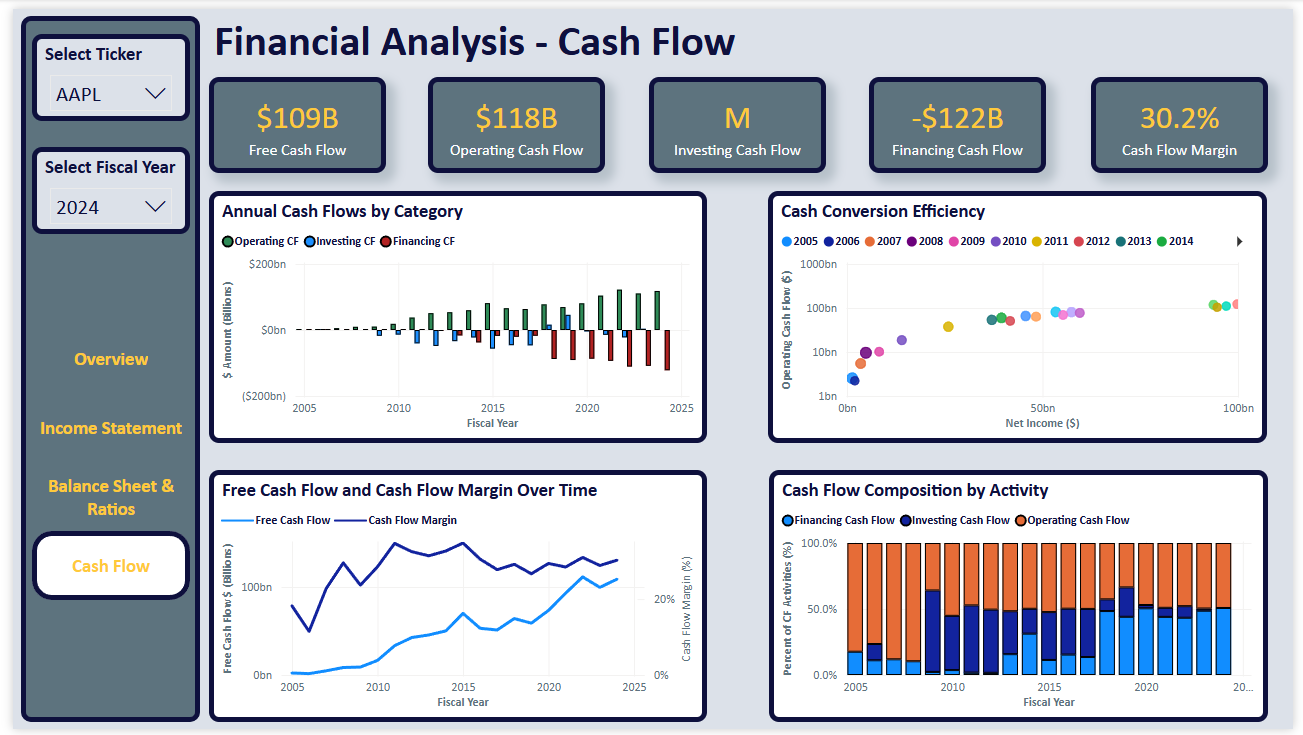

What the dashboard file says about the page in this screenshot:
{"tool":"powerbi","page":{"name":"Cash Flow","canvas":[1280,720],"ordinal":3},"visuals":[{"type":"textbox","title":"Title","box":[196,0,882.3,68.3],"z":0},{"type":"card","fields":{"Values":["Cash Flow.Formatted Free Cash Flow"]},"box":[196,68.3,176.7,95.6],"z":0,"group":"g1"},{"type":"actionButton","box":[18.6,314.8,158,69],"z":0,"group":"g2"},{"type":"shape","box":[8,7,179,706],"z":1000},{"type":"card","fields":{"Values":["Cash Flow.Formatted Operating Cash Flow"]},"box":[414.9,68.3,176.7,95.6],"z":1000,"group":"g1"},{"type":"actionButton","box":[18.6,383.8,158,69],"z":1000,"group":"g2"},{"type":"slicer","title":"Select Ticker","fields":{"Values":["Income Statement.Ticker"]},"box":[19,25,158,87],"z":2000},{"type":"card","fields":{"Values":["Cash Flow.Formatted Investing Cash Flow"]},"box":[636,68.3,176.7,95.6],"z":2000,"group":"g1"},{"type":"actionButton","box":[18.6,452.8,158,69],"z":2000,"group":"g2"},{"type":"card","fields":{"Values":["Cash Flow.Formatted Financing Cash Flow"]},"box":[856,68.3,176.7,95.6],"z":3000,"group":"g1"},{"type":"slicer","title":"Select Fiscal Year","fields":{"Values":["Income Statement.FiscalYear"]},"box":[19,138,158,87],"z":3000},{"type":"actionButton","box":[18.6,521.8,158,69],"z":3000,"group":"g2"},{"type":"group","id":"g1","title":"Group 1","box":[196,68.3,1057.8,95.8],"z":4000},{"type":"card","fields":{"Values":["Cash Flow.Formatted Cash Flow Margin"]},"box":[1078.2,68.3,176.7,95.6],"z":4000,"group":"g1"},{"type":"hundredPercentStackedColumnChart","title":"Cash Flow Composition by Activity","fields":{"Category":["Income Statement.FiscalYear"],"Series":["CashFlowCategories.Category"],"Y":["CashFlowCategories.SelectedCashFlowPercent"]},"box":[756.4,461.1,498.3,251.8],"z":5000},{"type":"scatterChart","title":"Cash Conversion Efficiency","fields":{"X":["Sum(Income Statement.net_income)"],"Y":["Sum(Cash Flow.operating_cf)"],"Size":["Cash Flow.Cash Conversion Efficiency"],"Series":["Income Statement.FiscalYear"]},"box":[755.5,181.8,498.3,251.8],"z":6000},{"type":"lineChart","title":"Free Cash Flow and Cash Flow Margin Over Time","fields":{"Category":["Income Statement.FiscalYear"],"Y":["Cash Flow.Free Cash Flow"],"Y2":["Cash Flow.Cash Flow Margin"]},"box":[196,461.1,498.3,251.8],"z":7000},{"type":"clusteredColumnChart","title":"Annual Cash Flows by Category","fields":{"Category":["Income Statement.FiscalYear"],"Y":["Sum(Cash Flow.operating_cf)","Sum(Cash Flow.cf_investing)","Sum(Cash Flow.cf_financing)"]},"box":[196,181.8,498.3,251.8],"z":8000},{"type":"group","id":"g2","title":"Group 2","box":[18.6,314.8,158.7,275.8],"z":9000}]}

Visuals, with their boxes in screenshot pixels (x1, y1, x2, y2), scaled from the page's 1280x720 canvas onto the 1303x735 screenshot:
"Title" textbox: 200/0/1098/70
card - Cash Flow.Formatted Free Cash Flow: 200/70/379/167
actionButton: 19/321/180/392
shape: 8/7/190/728
card - Cash Flow.Formatted Operating Cash Flow: 422/70/602/167
actionButton: 19/392/180/462
"Select Ticker" slicer: 19/26/180/114
card - Cash Flow.Formatted Investing Cash Flow: 647/70/827/167
actionButton: 19/462/180/533
card - Cash Flow.Formatted Financing Cash Flow: 871/70/1051/167
"Select Fiscal Year" slicer: 19/141/180/230
actionButton: 19/533/180/603
"Group 1" group: 200/70/1276/168
card - Cash Flow.Formatted Cash Flow Margin: 1098/70/1277/167
"Cash Flow Composition by Activity" hundredPercentStackedColumnChart: 770/471/1277/728
"Cash Conversion Efficiency" scatterChart: 769/186/1276/443
"Free Cash Flow and Cash Flow Margin Over Time" lineChart: 200/471/707/728
"Annual Cash Flows by Category" clusteredColumnChart: 200/186/707/443
"Group 2" group: 19/321/180/603
